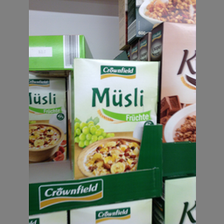cereal: (71, 58, 161, 178), (29, 76, 65, 164)
